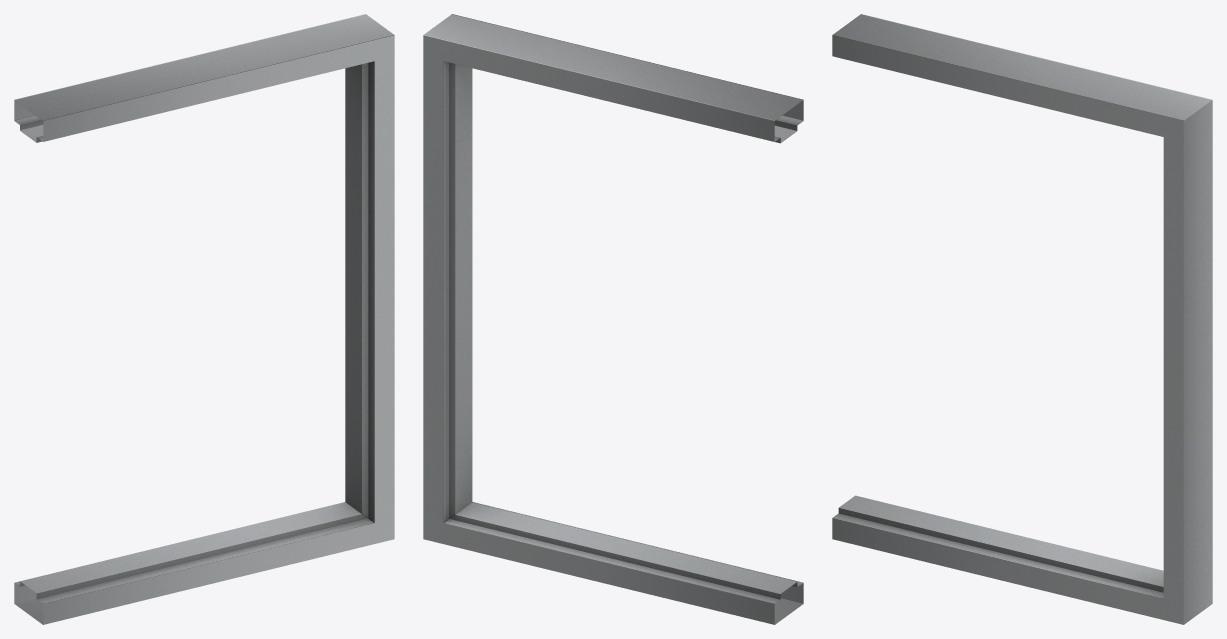
Rendered from props_spytech_doorframe004d.glb.
3 views of the same model, side by side, from view 1: azimuth 30°, elevation 25°; view 2: azimuth 150°, elevation 25°; view 3: azimuth 330°, elevation 25° (orthographic).
Parts seen in each view (by area): view 1: models/props_spytech/doorframe004d; view 2: models/props_spytech/doorframe004d; view 3: models/props_spytech/doorframe004d.
Part boxes in pixels (bbox=[...]): models/props_spytech/doorframe004d: bbox=[14, 14, 394, 624]; models/props_spytech/doorframe004d: bbox=[423, 14, 803, 624]; models/props_spytech/doorframe004d: bbox=[832, 14, 1212, 624].
Bounding box in the file's own units: 140 × 192 × 20.03.
Materials: 1 (1 with a texture image).
